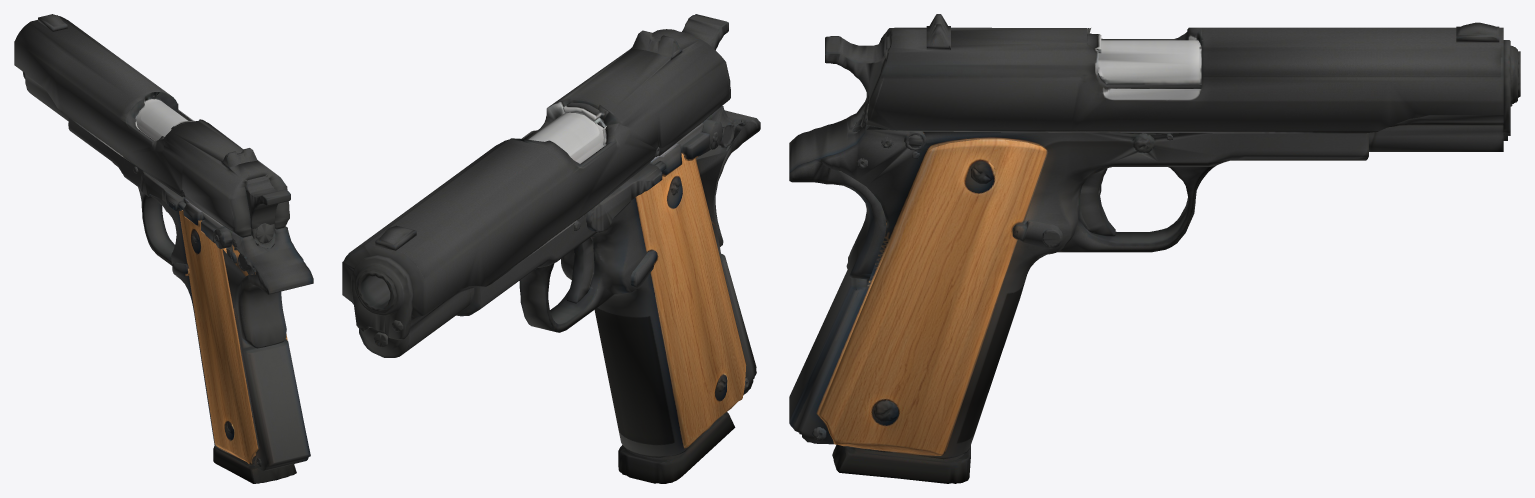
The model's file is gun.glb.
3 renders of one model, left to right at view 1: azimuth 30°, elevation 25°; view 2: azimuth 150°, elevation 25°; view 3: azimuth 270°, elevation 25°, orthographic. The views are drawn at different scales.
Parts seen in each view (by area): view 1: tripo_node_81de42aa-8b9a-4315-8110-cf241ffe8f2f; view 2: tripo_node_81de42aa-8b9a-4315-8110-cf241ffe8f2f; view 3: tripo_node_81de42aa-8b9a-4315-8110-cf241ffe8f2f.
Boxes of the visible parts, box(x1,y1,x2,y2) form: tripo_node_81de42aa-8b9a-4315-8110-cf241ffe8f2f: box(14, 14, 313, 483); tripo_node_81de42aa-8b9a-4315-8110-cf241ffe8f2f: box(342, 14, 760, 483); tripo_node_81de42aa-8b9a-4315-8110-cf241ffe8f2f: box(789, 14, 1520, 483).
Bounding box in the file's own units: 0.1504 × 0.6777 × 0.998.
1 material, 1 textured.
